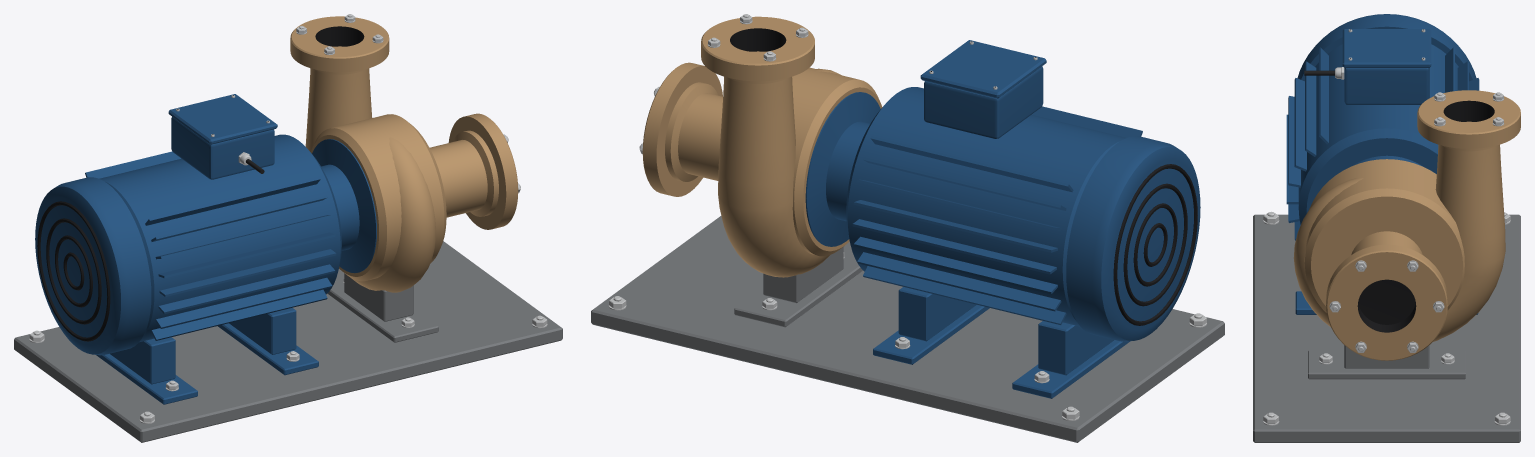
Rendered from pump_centrifugal.glb.
The picture shows the model from 3 angles, left to right: view 1: azimuth 30°, elevation 25°; view 2: azimuth 150°, elevation 25°; view 3: azimuth 270°, elevation 25°; orthographic projection. The views are drawn at different scales.
Parts seen in each view (by area): view 1: Pump_Body; view 2: Pump_Body; view 3: Pump_Body.
Boxes of the visible parts, box(x1,y1,x2,y2) form: Pump_Body: box(14, 14, 562, 442); Pump_Body: box(591, 14, 1224, 442); Pump_Body: box(1253, 14, 1520, 442).
Size of the model in its own units: 0.8485 by 0.501 by 0.44.
